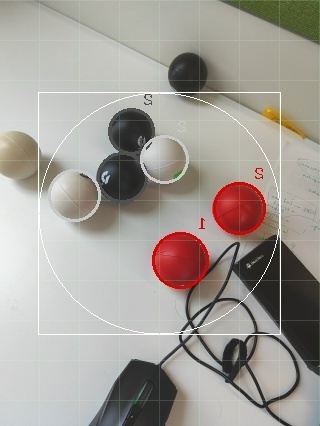Pelota blanca: (236, 331, 302, 411), (47, 169, 103, 222), (141, 134, 191, 184), (0, 129, 41, 179)
Pelota negra: (90, 358, 177, 425), (95, 150, 148, 200), (109, 105, 156, 152), (167, 52, 209, 91)
Pelota roja: (151, 230, 212, 291), (213, 180, 268, 238)
